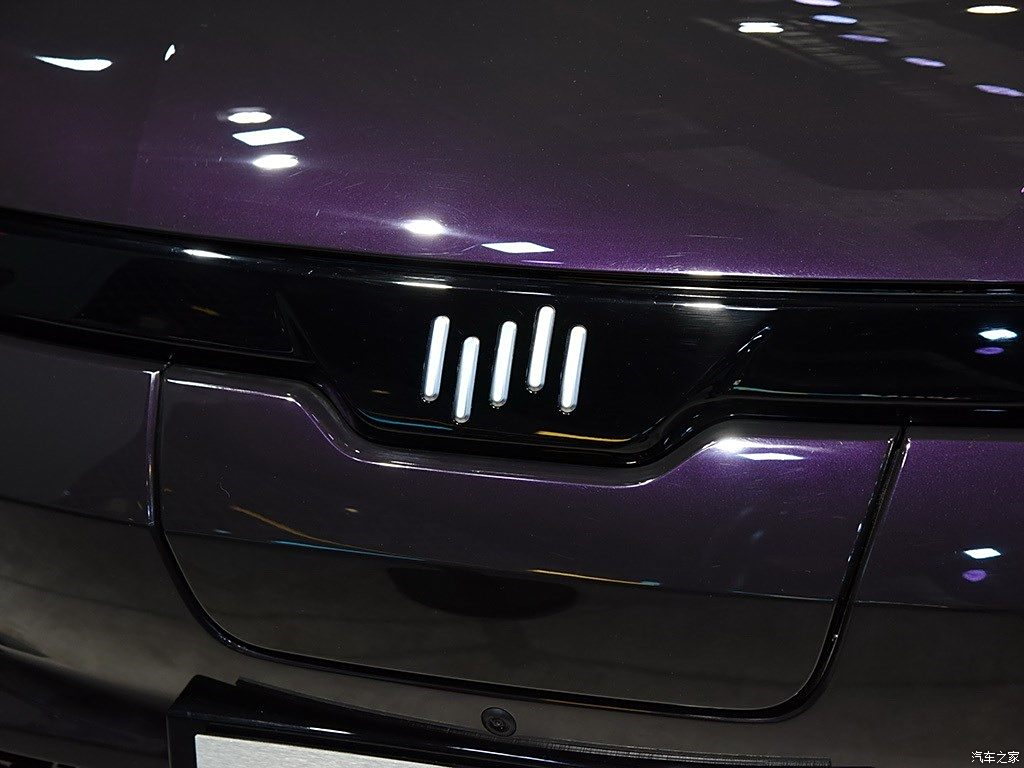WELTMEISTER: (426, 305, 587, 422)
